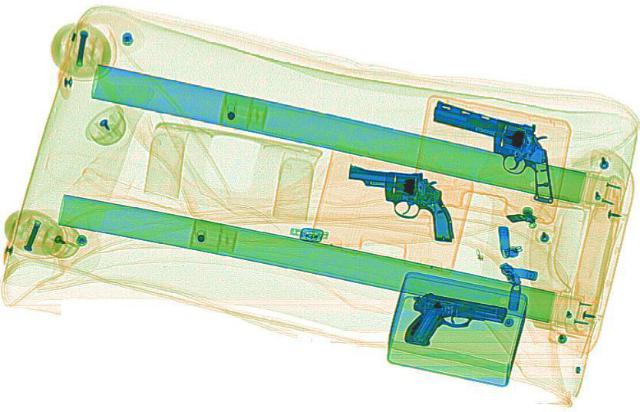Gun: (392, 100, 596, 203), (327, 163, 473, 239), (394, 288, 512, 355)
